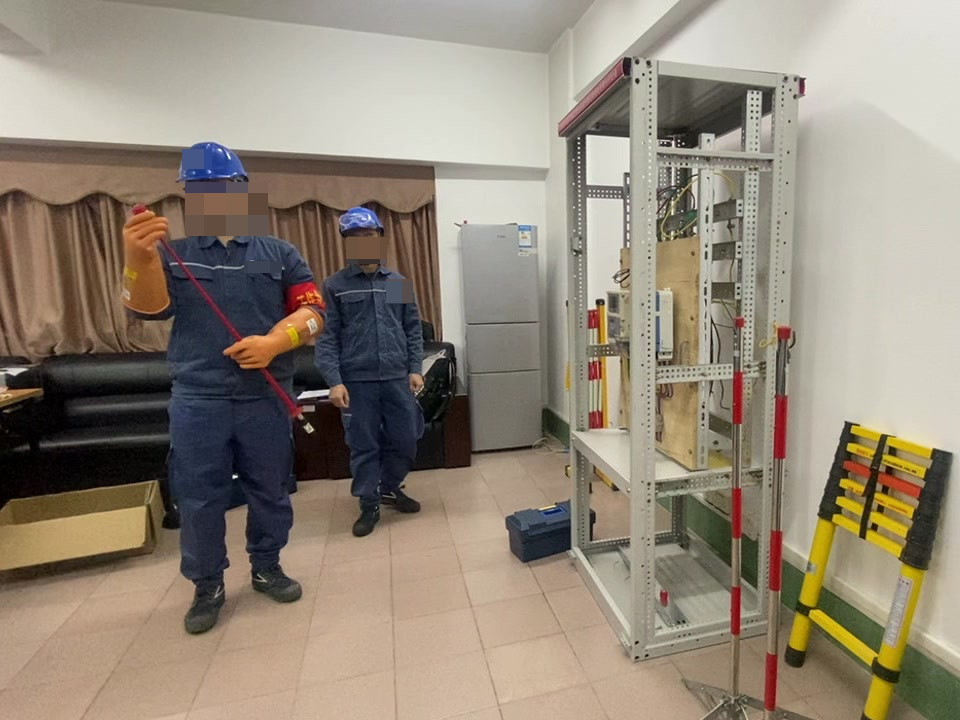badge: (286, 279, 327, 325)
downsuit: (164, 401, 298, 581), (345, 385, 424, 501)
halt: (178, 140, 252, 224), (337, 204, 388, 264)
hand: (328, 384, 353, 410), (406, 376, 425, 391)
inear: (229, 175, 252, 214)
longglove: (222, 308, 320, 366), (113, 213, 167, 317)
person: (123, 139, 327, 625), (327, 202, 433, 533)
testrod: (135, 206, 316, 439)
upsuit: (139, 220, 326, 387), (325, 264, 423, 380)
